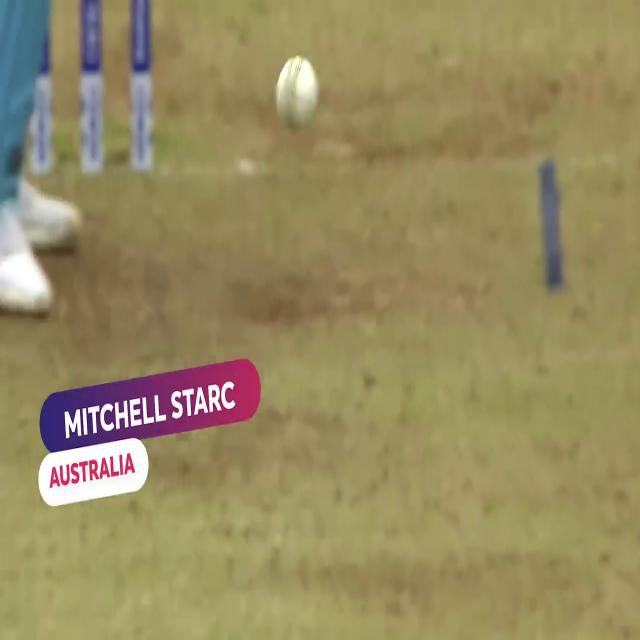ball: (276, 54, 322, 134)
